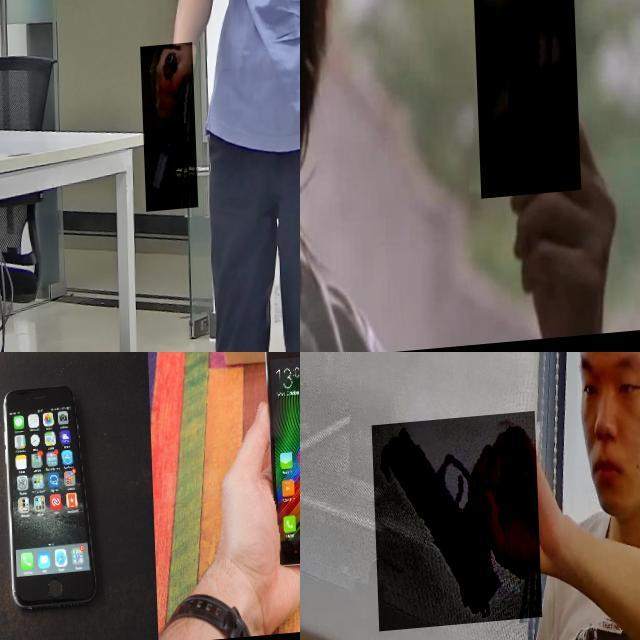-: (463, 0, 577, 232)
gun-knife-thesis - v11 Yolov5 augmented: (370, 416, 539, 634), (138, 48, 195, 216)
